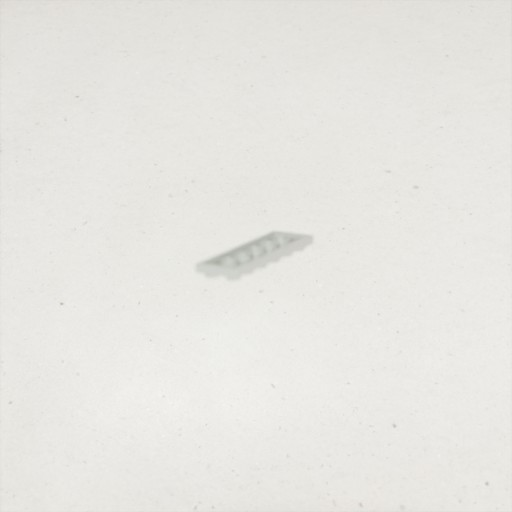lego: (195, 230, 314, 282)
